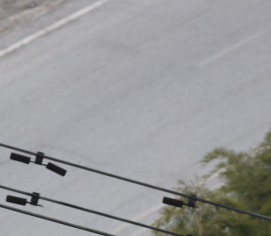damper: (9, 149, 69, 178)
damper_defect: (4, 190, 47, 209), (160, 191, 200, 211)
